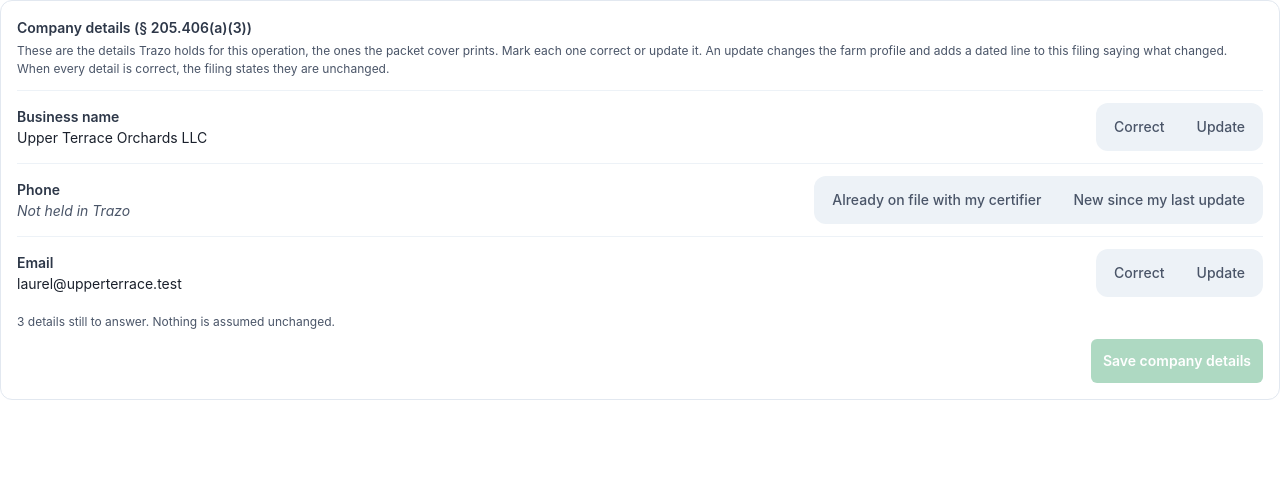
Test case: company details step › shows a detail Trazo does not hold as not held, and makes the operator type it
Expected: the text "Not held in Trazo" is shown, [17,200,130,221]
Click the button "Correct" in the row of "Upper Terrace Orchards LLC" at (1139, 127), box [1098,105,1180,149]
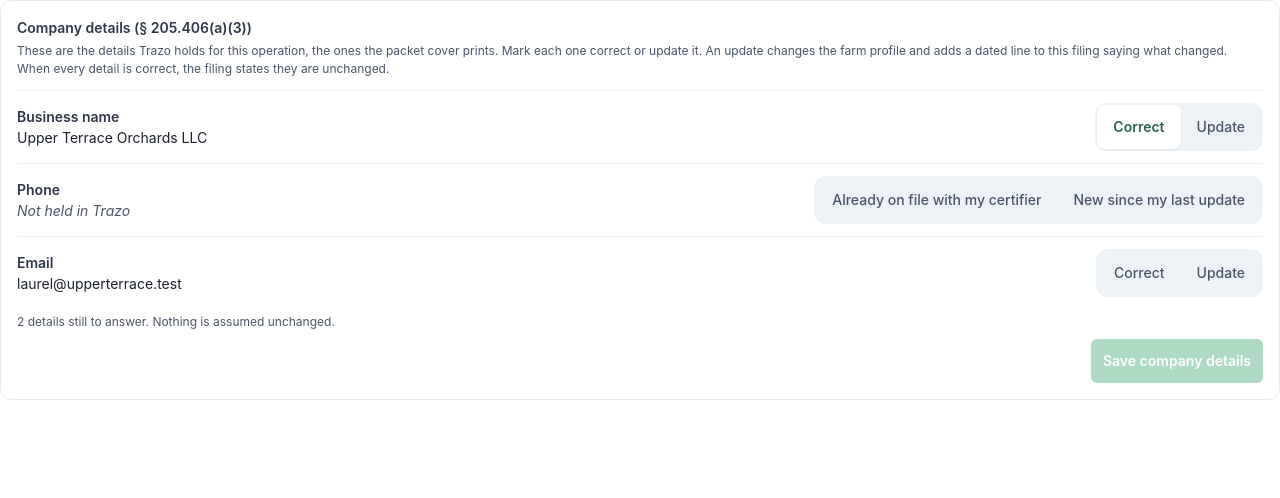
Click the button "Correct" in the row of "laurel@upperterrace.test" at (1139, 273), box [1098,251,1180,295]
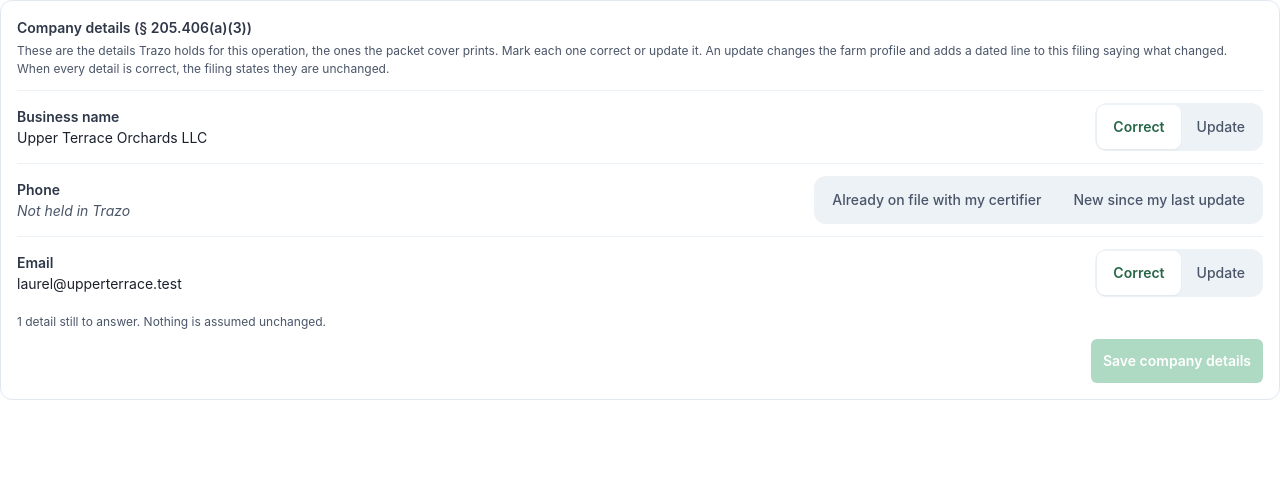
Click the button "Already on file with my certifier" at (937, 200), box [816,178,1058,222]
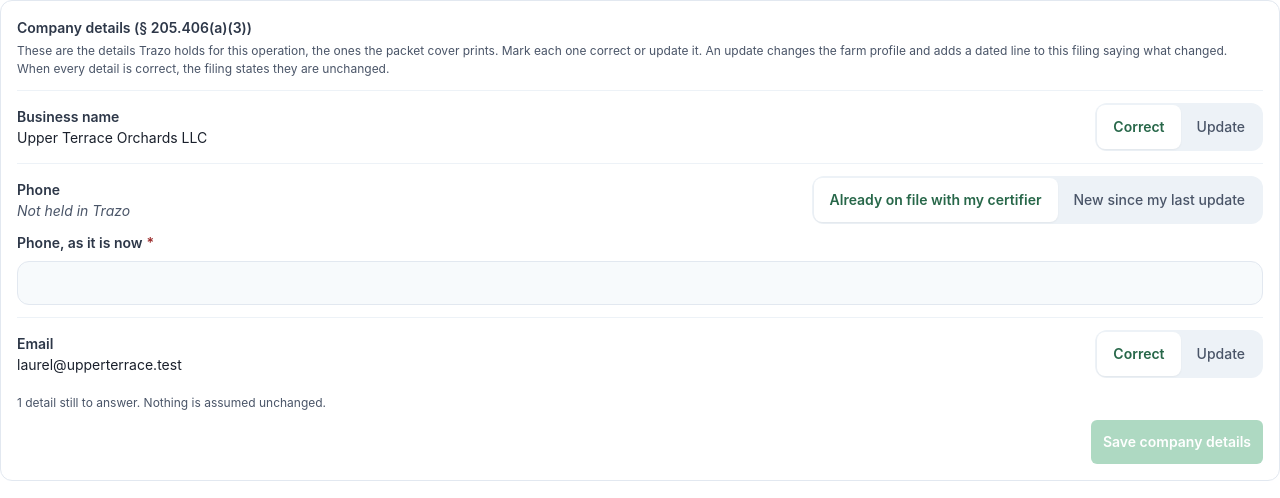
Expected: the button "Save company details" is disabled, [1091,420,1263,464]
Type "(541) 555-0111" into the field labelled "Phone, as it is now*" at (640, 283), box [17,261,1263,305]
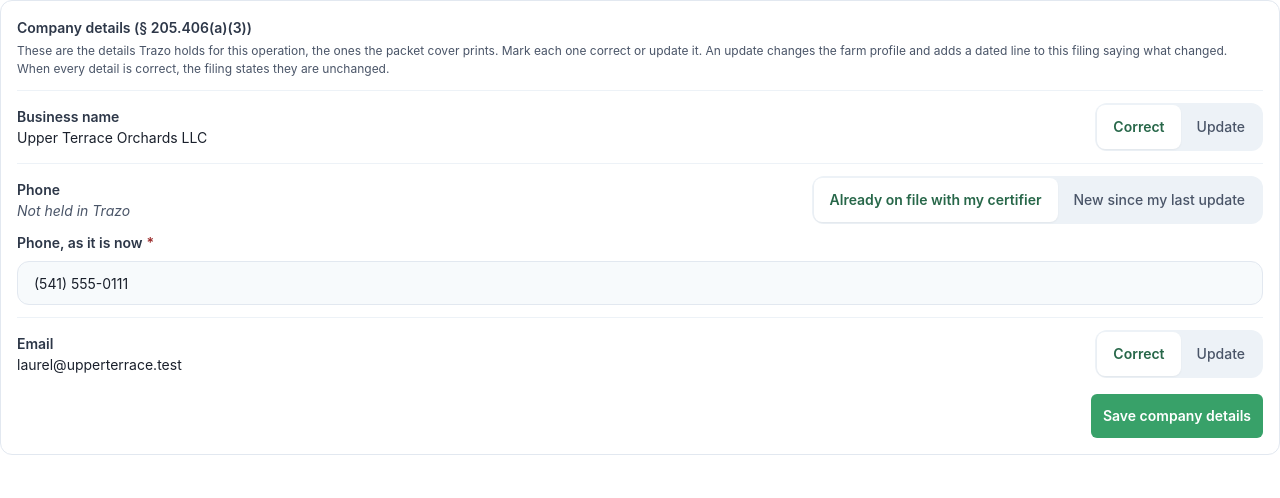
Now the button "Save company details" is enabled, box [1091,394,1263,438]
